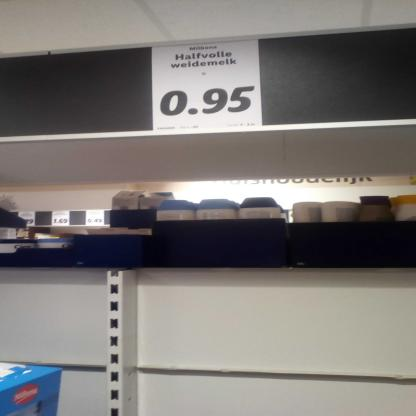prtg: (152, 40, 264, 132)
